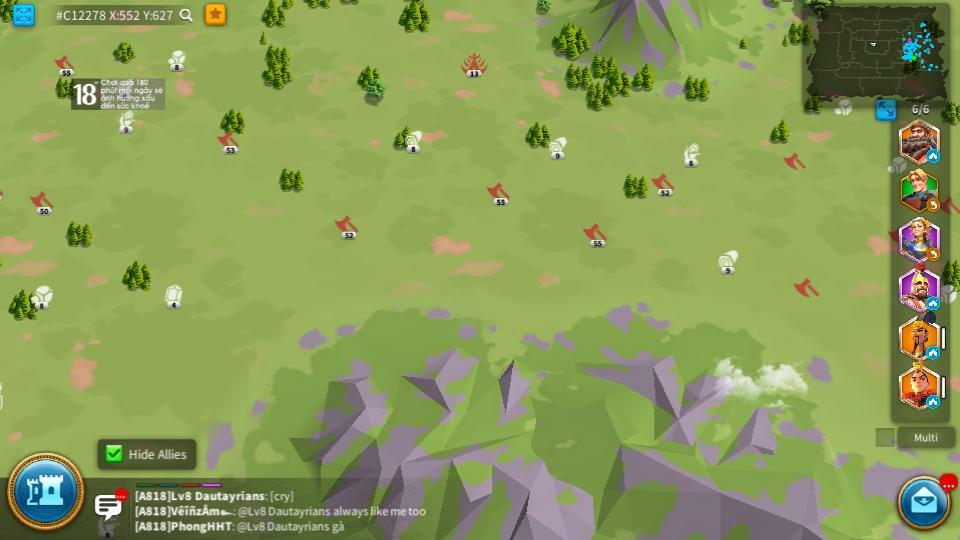gem-z-out: (162, 285, 184, 307)
march_idle: (926, 396, 940, 407), (926, 151, 940, 162), (927, 348, 940, 359), (925, 297, 938, 307)
march_returning: (927, 199, 941, 211), (926, 248, 941, 259)
